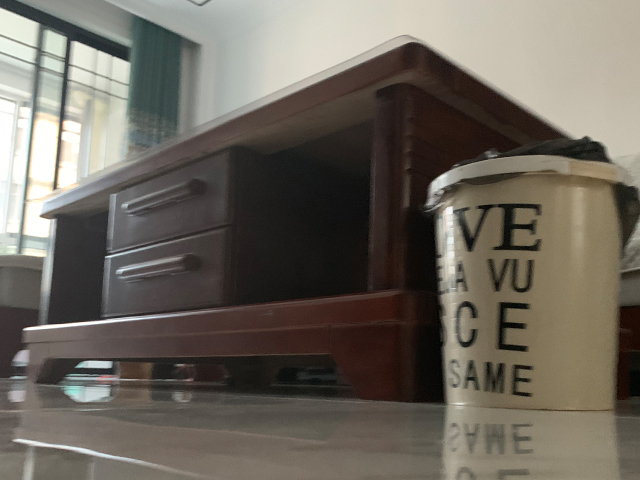table: (20, 34, 619, 404)
trashcan: (426, 153, 629, 412)
